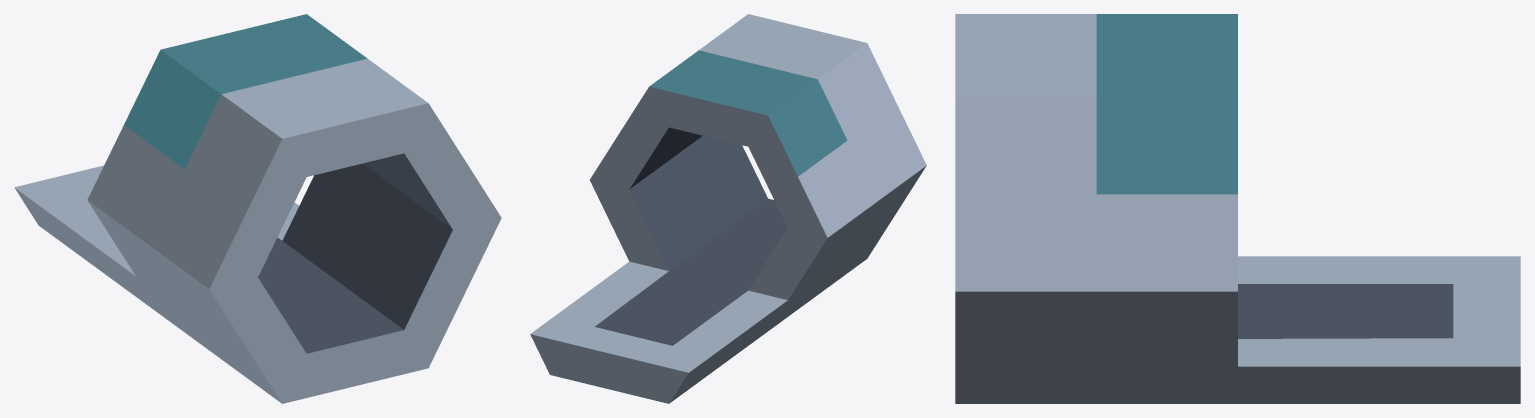
Rendered from pipe_end.glb.
3 renders of one model, left to right at view 1: azimuth 30°, elevation 25°; view 2: azimuth 150°, elevation 25°; view 3: azimuth 270°, elevation 25°, orthographic. The views are drawn at different scales.
Visible parts, largest first — view 1: pipe_end; view 2: pipe_end; view 3: pipe_end.
Part boxes in pixels (x1,y1,x2,y2): pipe_end: (14,14,501,403); pipe_end: (530,14,926,403); pipe_end: (955,14,1520,403).
Bounding box in the file's own units: 0.6928 × 0.6 × 1.
